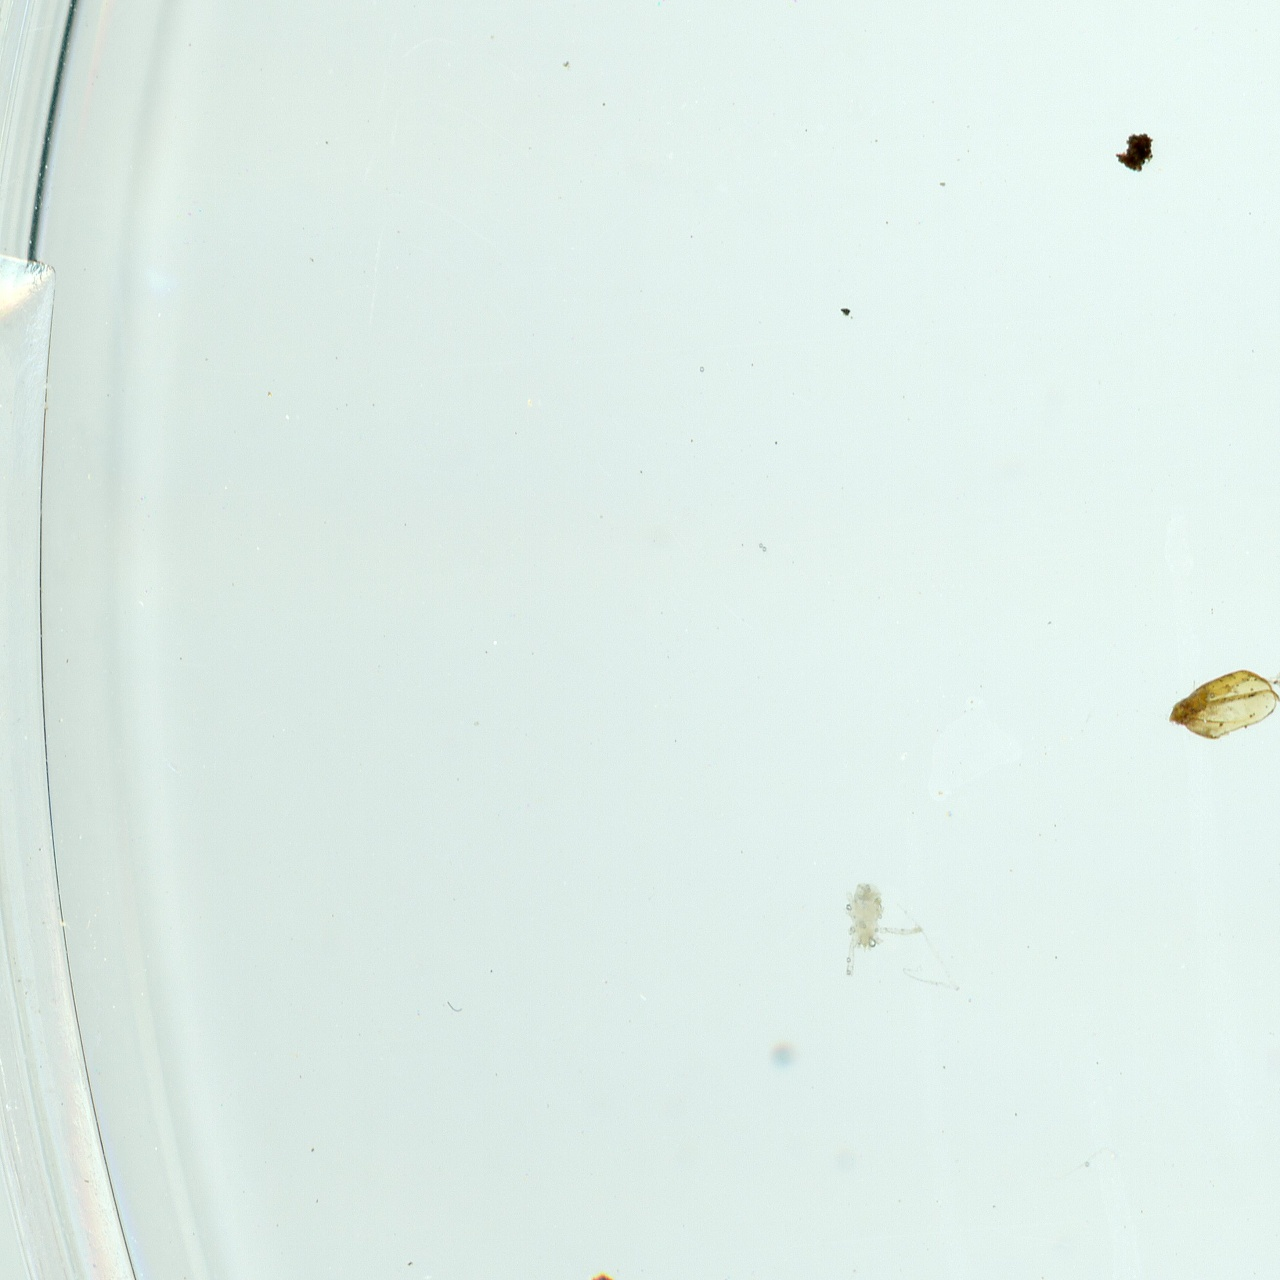arthropod: (833, 878, 932, 982), (564, 1268, 624, 1280)
